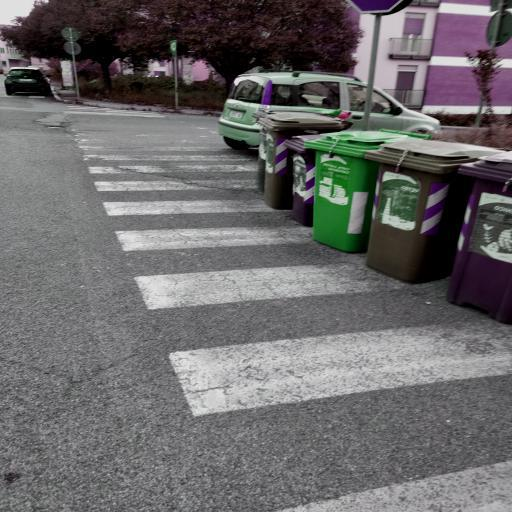crosswalk: (113, 263, 512, 422)
